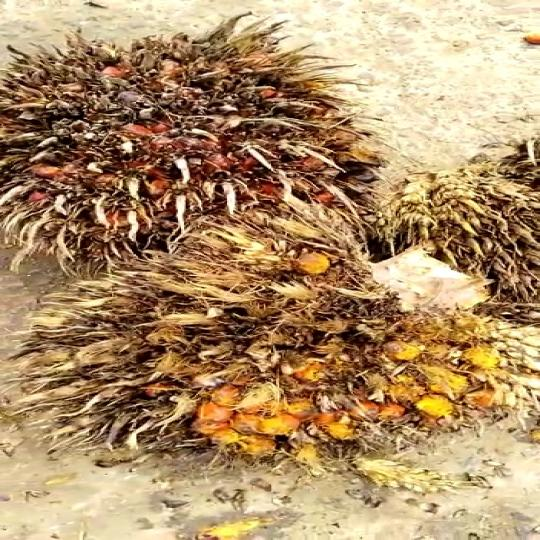terlalu masak: (4, 223, 540, 470), (0, 20, 403, 258)
